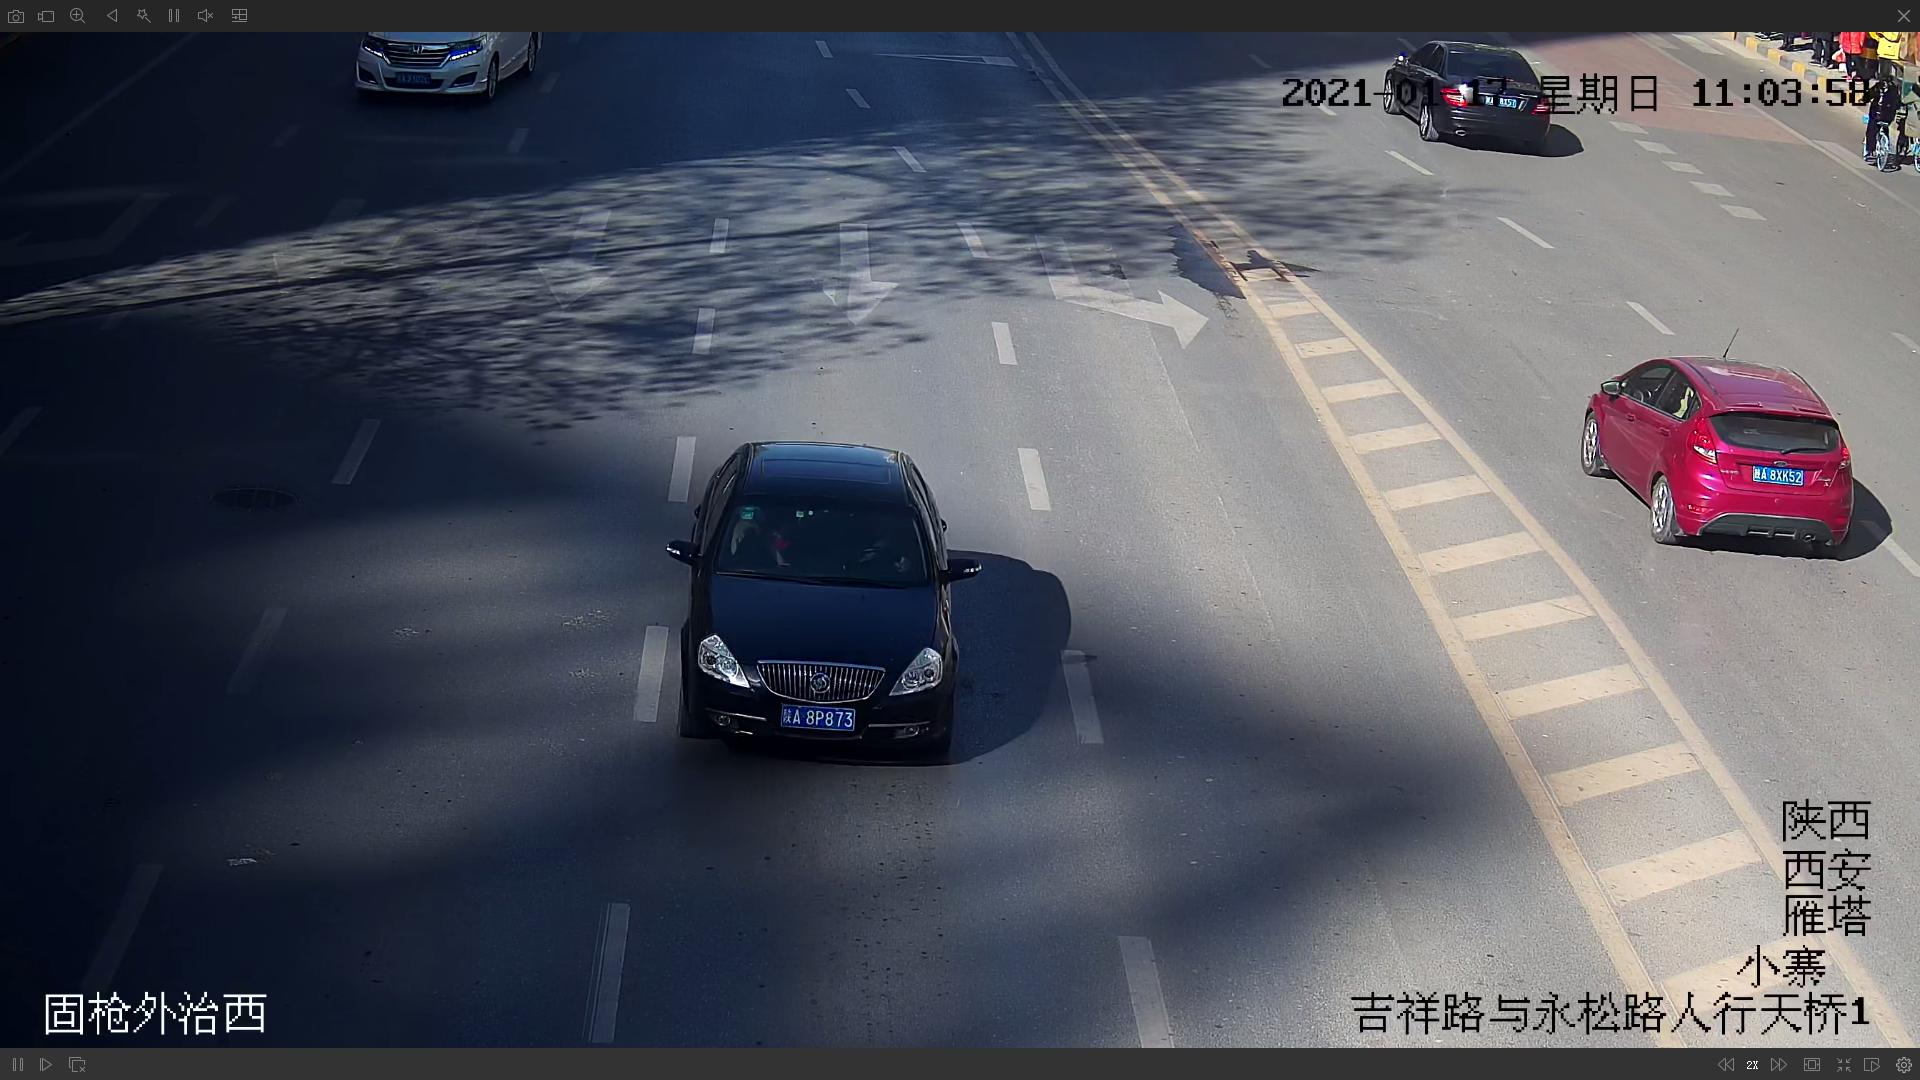black: (662, 436, 981, 766)
